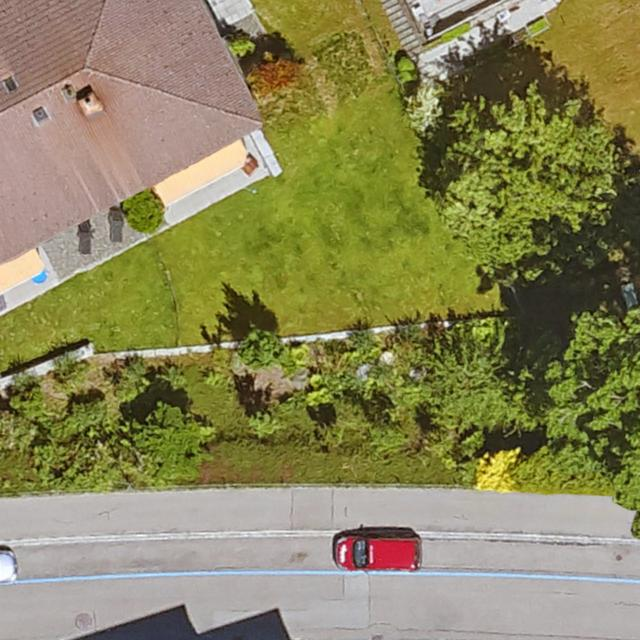tree: (435, 89, 622, 263), (521, 304, 640, 501), (126, 404, 210, 483), (237, 331, 286, 369)
